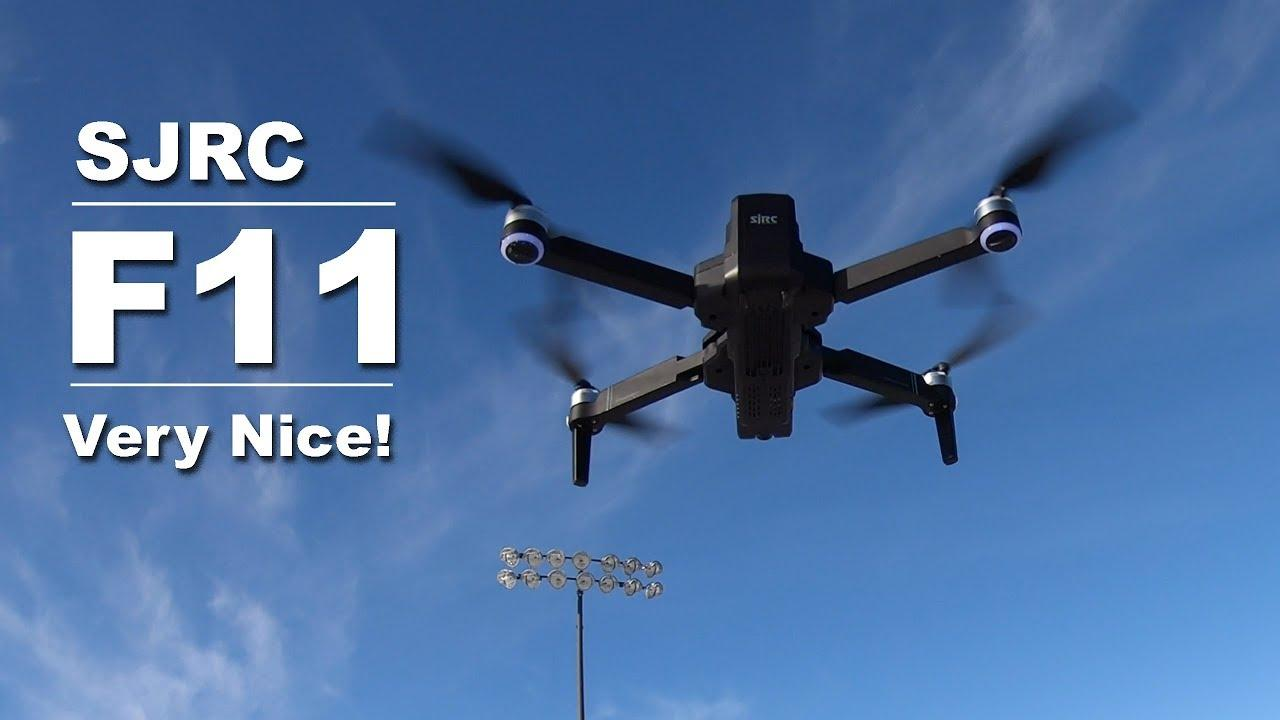Drone: (349, 70, 1152, 501)
